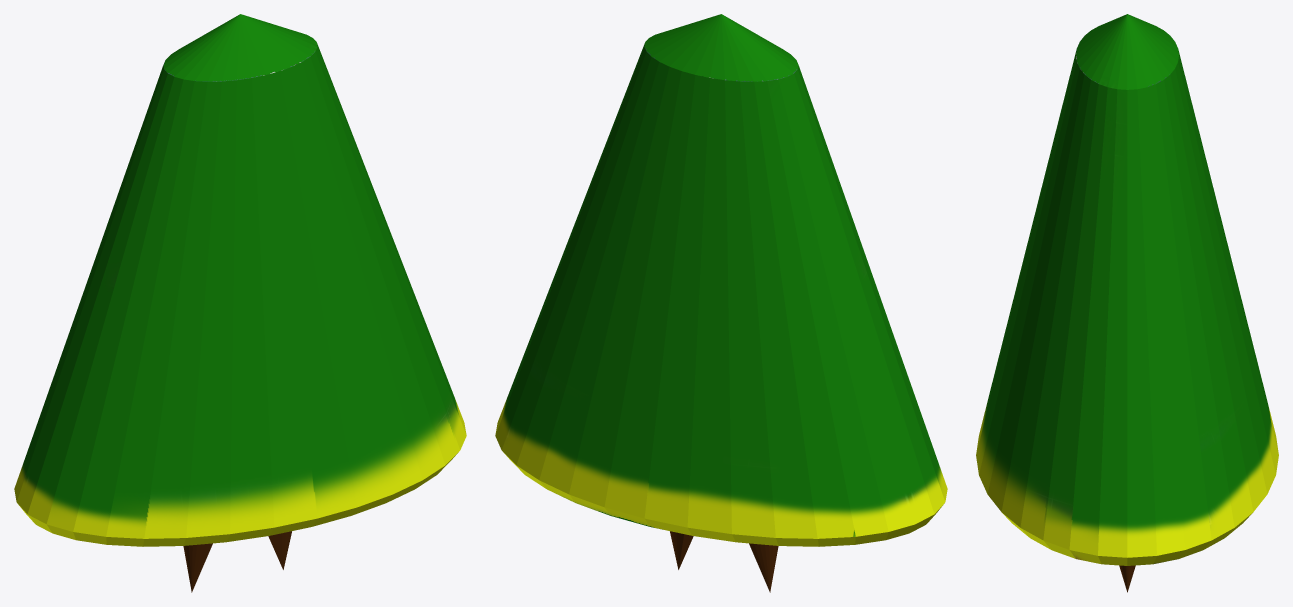
Rendered from player.glb.
3 views of the same model, side by side, from view 1: azimuth 30°, elevation 25°; view 2: azimuth 150°, elevation 25°; view 3: azimuth 270°, elevation 25° (orthographic).
Parts seen in each view (by area): view 1: Cone; view 2: Cone; view 3: Cone.
Part boxes in pixels (x1,y1,x2,y2): Cone: [14, 14, 466, 592]; Cone: [495, 14, 947, 592]; Cone: [976, 14, 1278, 592].
Bounding box in the file's own units: 2.9 × 3.69 × 1.81.
Materials: 1 (1 with a texture image).
